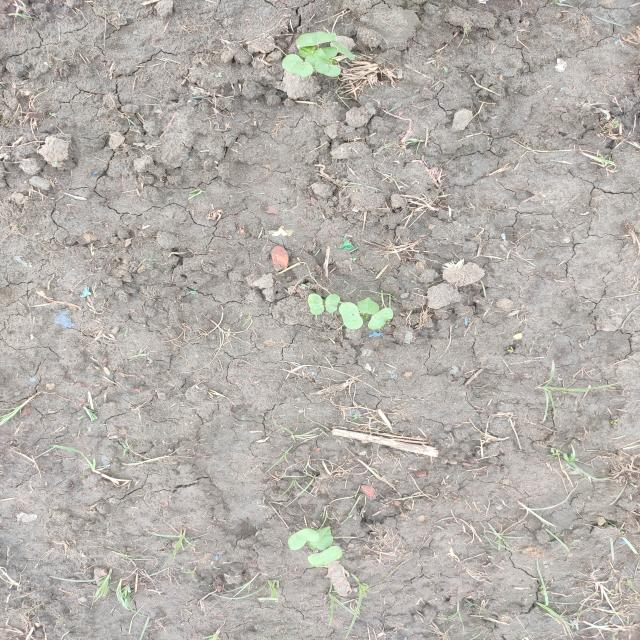seedling_s4: (282, 54, 314, 77), (287, 528, 319, 550), (307, 546, 342, 566), (339, 302, 363, 329), (296, 31, 335, 47), (308, 526, 333, 550), (368, 308, 394, 330), (305, 48, 332, 66), (332, 41, 355, 61), (357, 297, 380, 314), (314, 62, 340, 77), (308, 293, 324, 315), (325, 294, 341, 313), (299, 45, 315, 58), (321, 47, 338, 59)
